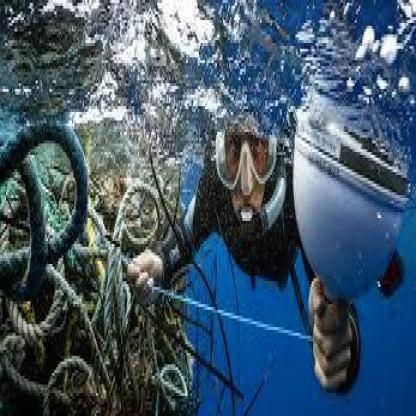net: (1, 120, 179, 416)
